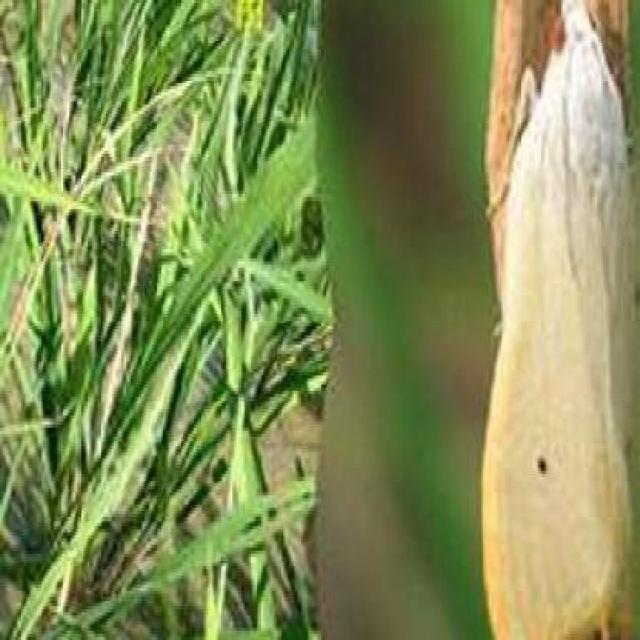stem-borer: (475, 0, 640, 640)
